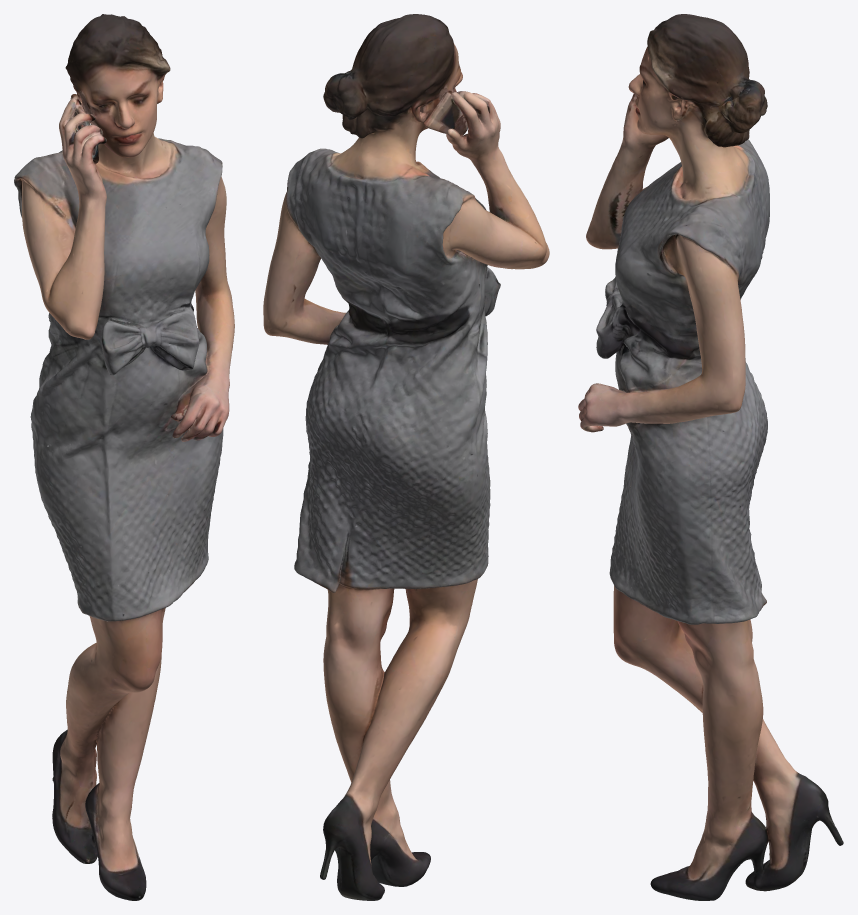
Rendered from business_call.glb.
The picture shows the model from 3 angles, left to right: view 1: azimuth 30°, elevation 25°; view 2: azimuth 150°, elevation 25°; view 3: azimuth 270°, elevation 25°; orthographic projection.
Parts seen in each view (by area): view 1: Object_4; view 2: Object_4; view 3: Object_4.
Boxes of the visible parts, x1=… form: Object_4: x1=14, y1=14, x2=234, y2=900; Object_4: x1=263, y1=14, x2=549, y2=900; Object_4: x1=578, y1=14, x2=843, y2=900.
Bounding box in the file's own units: 0.5279 × 1.9 × 0.5249.
1 material, 1 textured.
